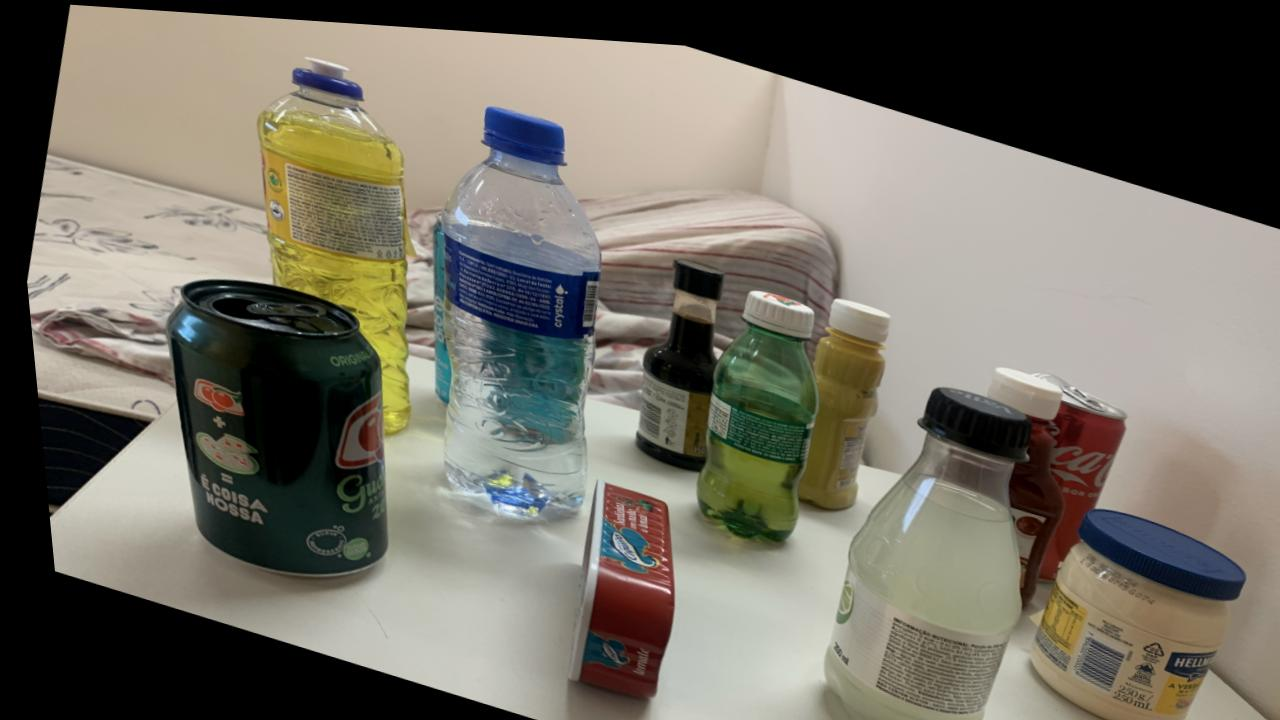Coke-Drinks: (1027, 358, 1119, 567)
Detergent-Cleanup_Items: (254, 54, 408, 428)
English_Sauce-Pantry_Items: (627, 249, 719, 462)
Guarana-Drinks: (687, 280, 812, 532)
Guarana_Can-Drinks: (160, 277, 378, 573)
Ketchup-Pantry_Items: (981, 354, 1056, 590)
Mayonnaise-Pantry_Items: (1018, 494, 1236, 716)
Mustard-Pantry_Items: (789, 287, 886, 499)
Soda-Drinks: (811, 375, 1025, 720)
Tea-Drinks: (426, 213, 445, 397)
Tuna_Can-Pantry_Items: (556, 473, 664, 690)
Water_Bottle-Drinks: (435, 101, 597, 513)
